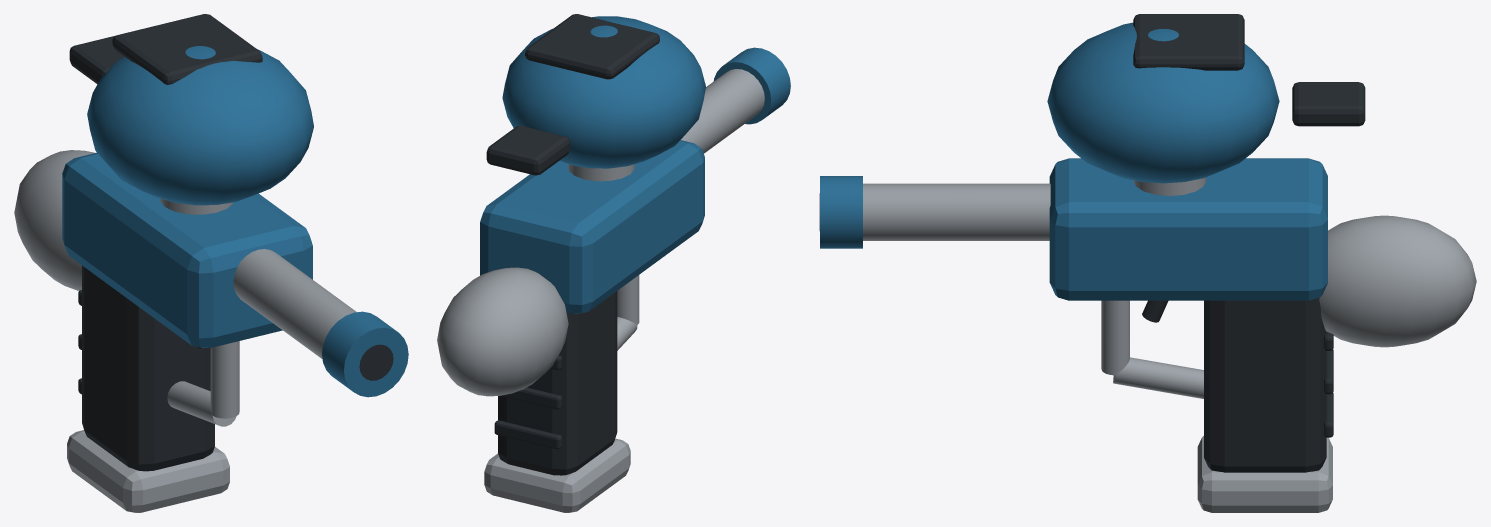
The model's file is paintball_gun.glb.
3 views of the same model, side by side, from view 1: azimuth 30°, elevation 25°; view 2: azimuth 150°, elevation 25°; view 3: azimuth 270°, elevation 25° (orthographic). The views are drawn at different scales.
Parts seen in each view (by area): view 1: SM_Receiver, SM_ErgonomicGrip, SM_GripHeel; view 2: SM_Receiver, SM_GripHeel, SM_ErgonomicGrip; view 3: SM_Receiver, SM_GripHeel, SM_ErgonomicGrip.
Part boxes in pixels (<box>): SM_Receiver: <box>62,46,408,397</box>; SM_ErgonomicGrip: <box>69,14,393,471</box>; SM_GripHeel: <box>14,150,356,512</box>; SM_Receiver: <box>480,16,790,313</box>; SM_GripHeel: <box>437,69,764,512</box>; SM_ErgonomicGrip: <box>486,14,659,475</box>; SM_Receiver: <box>820,22,1327,300</box>; SM_GripHeel: <box>863,177,1476,512</box>; SM_ErgonomicGrip: <box>819,14,1365,472</box>.
Bounding box in the file's own units: 0.138 × 0.319 × 0.4135.
